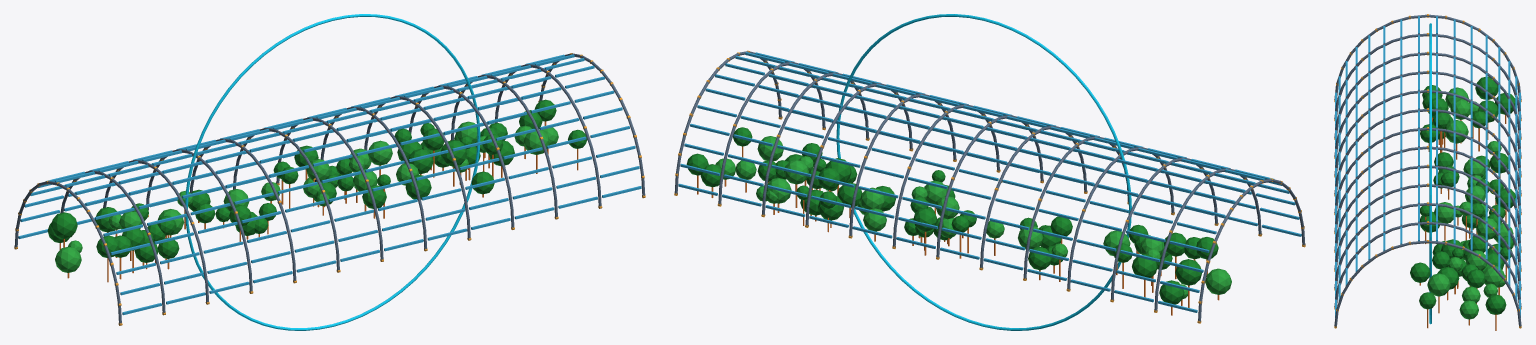
File: 02_L88_HabitatRingGlassBioDome.fbx
3 renders of one model, left to right at view 1: azimuth 30°, elevation 25°; view 2: azimuth 150°, elevation 25°; view 3: azimuth 270°, elevation 25°, orthographic. The views are drawn at different scales.
Parts seen in each view (by area): view 1: L87_HabitatRingGlassBioDome_Part_0033, L87_HabitatRingGlassBioDome_Part_0030, L87_HabitatRingGlassBioDome_Part_0032, L87_HabitatRingGlassBioDome_Part_0035, L87_HabitatRingGlassBioDome_Part_0034, L87_HabitatRingGlassBioDome_Part_0019, L87_HabitatRingGlassBioDome_Part_0016, L87_HabitatRingGlassBioDome_Part_0023, L87_HabitatRingGlassBioDome_Part_0018, L87_HabitatRingGlassBioDome_Part_0022, L87_HabitatRingGlassBioDome_Part_0017, L87_HabitatRingGlassBioDome_Part_0021 (+15 smaller); view 2: L87_HabitatRingGlassBioDome_Part_0030, L87_HabitatRingGlassBioDome_Part_0033, L87_HabitatRingGlassBioDome_Part_0032, L87_HabitatRingGlassBioDome_Part_0035, L87_HabitatRingGlassBioDome_Part_0016, L87_HabitatRingGlassBioDome_Part_0017, L87_HabitatRingGlassBioDome_Part_0021, L87_HabitatRingGlassBioDome_Part_0020, L87_HabitatRingGlassBioDome_Part_0024, L87_HabitatRingGlassBioDome_Part_0034, L87_HabitatRingGlassBioDome_Part_0022, L87_HabitatRingGlassBioDome_Part_0018 (+14 smaller); view 3: L87_HabitatRingGlassBioDome_Part_0030, L87_HabitatRingGlassBioDome_Part_0033, L87_HabitatRingGlassBioDome_Part_0032, L87_HabitatRingGlassBioDome_Part_0034, L87_HabitatRingGlassBioDome_Part_0009, L87_HabitatRingGlassBioDome_Part_0002, L87_HabitatRingGlassBioDome_Part_0006, L87_HabitatRingGlassBioDome_Part_0005, L87_HabitatRingGlassBioDome_Part_0001, L87_HabitatRingGlassBioDome_Part_0007, L87_HabitatRingGlassBioDome_Part_0003, L87_HabitatRingGlassBioDome_Part_0008 (+19 smaller).
Part boxes in pixels (x1,y1,x2,y2): L87_HabitatRingGlassBioDome_Part_0033: (50, 110, 587, 242); L87_HabitatRingGlassBioDome_Part_0030: (55, 121, 558, 272); L87_HabitatRingGlassBioDome_Part_0032: (47, 123, 498, 262); L87_HabitatRingGlassBioDome_Part_0035: (185, 14, 480, 330); L87_HabitatRingGlassBioDome_Part_0034: (95, 99, 556, 258); L87_HabitatRingGlassBioDome_Part_0019: (196, 129, 336, 283); L87_HabitatRingGlassBioDome_Part_0016: (18, 171, 161, 315); L87_HabitatRingGlassBioDome_Part_0023: (414, 75, 554, 229); L87_HabitatRingGlassBioDome_Part_0018: (150, 139, 273, 293); L87_HabitatRingGlassBioDome_Part_0022: (370, 86, 491, 240); L87_HabitatRingGlassBioDome_Part_0017: (83, 150, 205, 304); L87_HabitatRingGlassBioDome_Part_0021: (303, 97, 423, 251); L87_HabitatRingGlassBioDome_Part_0030: (715, 136, 1231, 298); L87_HabitatRingGlassBioDome_Part_0033: (700, 127, 1201, 285); L87_HabitatRingGlassBioDome_Part_0032: (775, 160, 1218, 304); L87_HabitatRingGlassBioDome_Part_0035: (836, 14, 1131, 330); L87_HabitatRingGlassBioDome_Part_0016: (1114, 169, 1301, 312); L87_HabitatRingGlassBioDome_Part_0017: (1070, 158, 1257, 291); L87_HabitatRingGlassBioDome_Part_0021: (852, 105, 1038, 238); L87_HabitatRingGlassBioDome_Part_0020: (896, 116, 1082, 259); L87_HabitatRingGlassBioDome_Part_0024: (678, 62, 864, 206); L87_HabitatRingGlassBioDome_Part_0034: (686, 143, 1200, 277); L87_HabitatRingGlassBioDome_Part_0022: (809, 84, 995, 227); L87_HabitatRingGlassBioDome_Part_0018: (1027, 137, 1213, 280); L87_HabitatRingGlassBioDome_Part_0030: (1427, 87, 1513, 319); L87_HabitatRingGlassBioDome_Part_0033: (1410, 76, 1508, 314); L87_HabitatRingGlassBioDome_Part_0032: (1422, 85, 1515, 280); L87_HabitatRingGlassBioDome_Part_0034: (1420, 93, 1513, 314); L87_HabitatRingGlassBioDome_Part_0009: (1334, 221, 1521, 327); L87_HabitatRingGlassBioDome_Part_0002: (1334, 52, 1521, 156); L87_HabitatRingGlassBioDome_Part_0006: (1334, 146, 1521, 250); L87_HabitatRingGlassBioDome_Part_0005: (1334, 127, 1521, 231); L87_HabitatRingGlassBioDome_Part_0001: (1334, 33, 1521, 137); L87_HabitatRingGlassBioDome_Part_0007: (1334, 184, 1521, 269); L87_HabitatRingGlassBioDome_Part_0003: (1334, 90, 1521, 175); L87_HabitatRingGlassBioDome_Part_0008: (1334, 203, 1521, 306).
Size of the model in its own units: 1980 by 1110 by 691.
